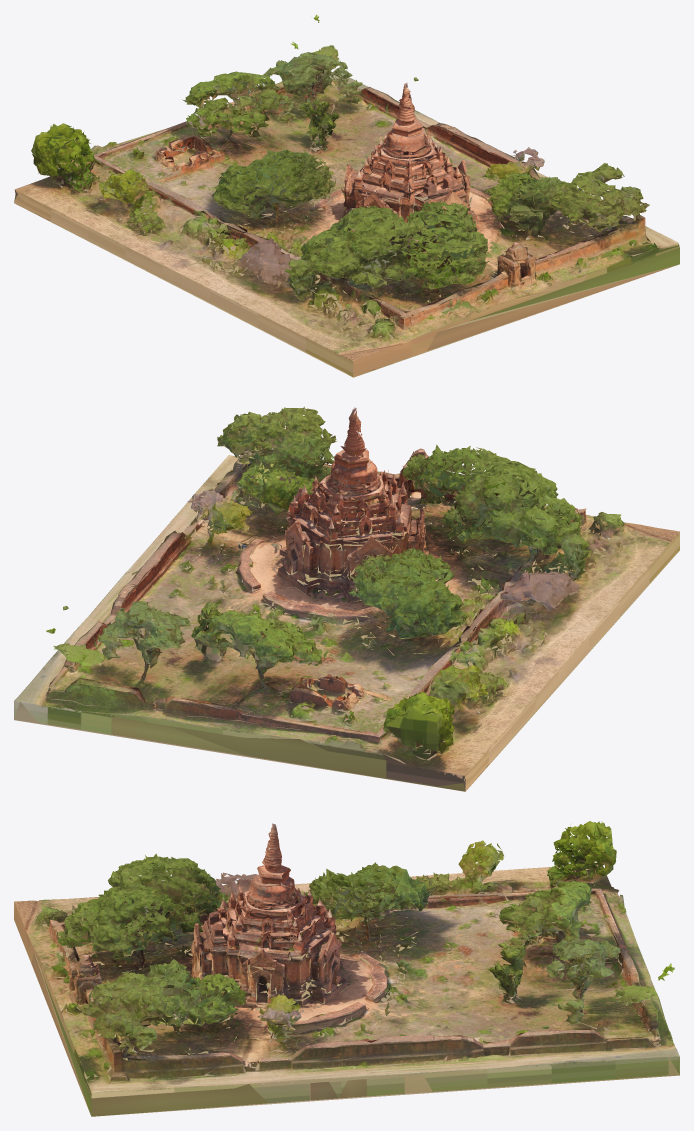
Rendered from bagan.preopt.glb.
The picture shows the model from 3 angles, top to bottom: view 1: azimuth 30°, elevation 25°; view 2: azimuth 150°, elevation 25°; view 3: azimuth 270°, elevation 25°; orthographic projection. The views are drawn at different scales.
Visible parts, largest first — view 1: Object_2, Object_3; view 2: Object_2, Object_3; view 3: Object_2, Object_3.
Boxes of the visible parts, bbox=[...] form: Object_2: bbox=[14, 14, 679, 377]; Object_3: bbox=[14, 16, 648, 356]; Object_2: bbox=[14, 406, 679, 791]; Object_3: bbox=[52, 411, 666, 790]; Object_2: bbox=[14, 821, 679, 1116]; Object_3: bbox=[21, 823, 673, 1100].
Size of the model in its own units: 81.75 by 30.3 by 96.69.
1 material, 1 textured.
